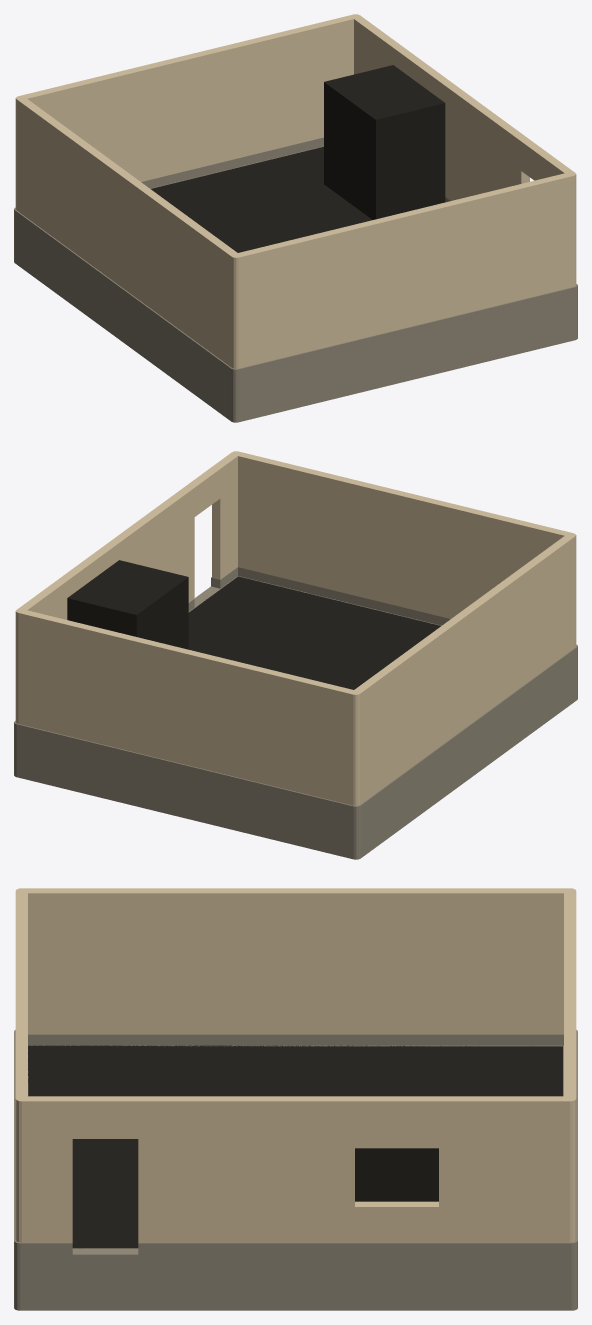
Rendered from SM_Homes_H04_Shell_LOD1.fbx.
3 views of the same model, one above another, from view 1: azimuth 30°, elevation 25°; view 2: azimuth 150°, elevation 25°; view 3: azimuth 270°, elevation 25° (orthographic). The views are drawn at different scales.
Parts seen in each view (by area): view 1: SM_Homes_H04_Shell_LOD1; view 2: SM_Homes_H04_Shell_LOD1; view 3: SM_Homes_H04_Shell_LOD1.
Part boxes in pixels (box(x1,y1,x2,y2)): SM_Homes_H04_Shell_LOD1: box(14, 14, 577, 422); SM_Homes_H04_Shell_LOD1: box(14, 451, 577, 859); SM_Homes_H04_Shell_LOD1: box(14, 888, 577, 1310).
Size of the model in its own units: 9.06 by 10.06 by 4.11.
